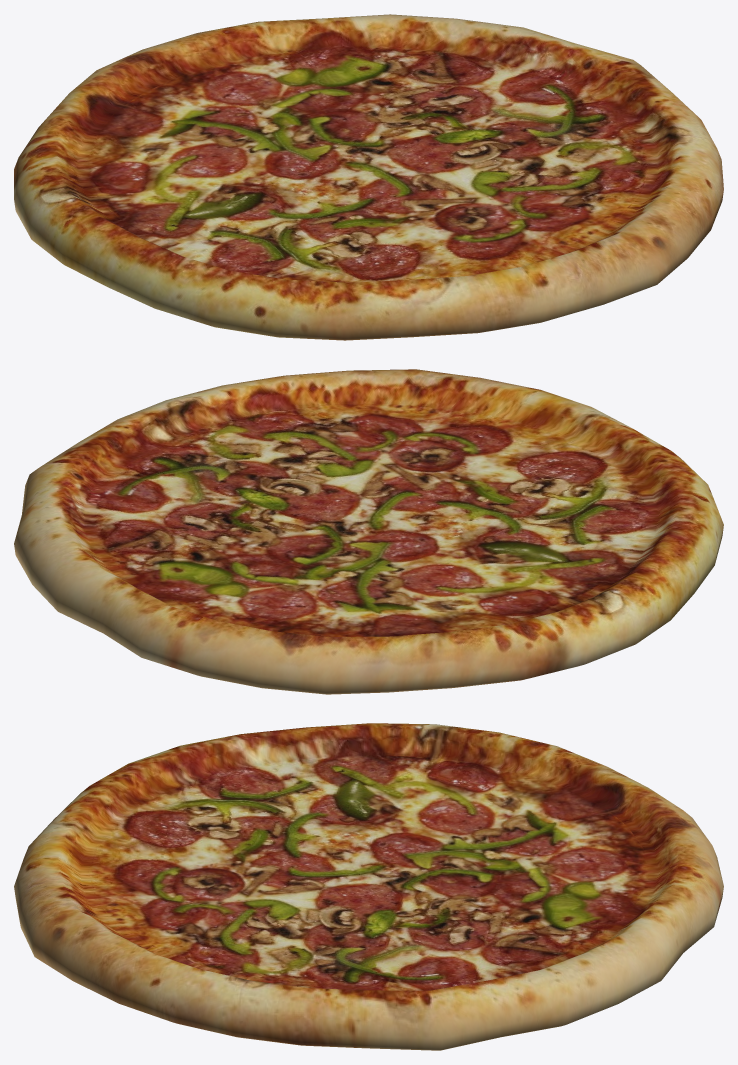
3 renders of one model, top to bottom at view 1: azimuth 30°, elevation 25°; view 2: azimuth 150°, elevation 25°; view 3: azimuth 270°, elevation 25°, orthographic.
Parts seen in each view (by area): view 1: Pizzaobjcleanermaterialmergergles; view 2: Pizzaobjcleanermaterialmergergles; view 3: Pizzaobjcleanermaterialmergergles.
Boxes of the visible parts, left/top/right/bottom form: Pizzaobjcleanermaterialmergergles: left=14, top=14, right=723, bottom=340; Pizzaobjcleanermaterialmergergles: left=14, top=369, right=723, bottom=694; Pizzaobjcleanermaterialmergergles: left=14, top=723, right=723, bottom=1050.
Bounding box in the file's own units: 2.09 × 0.1443 × 2.09.
1 material, 1 textured.
